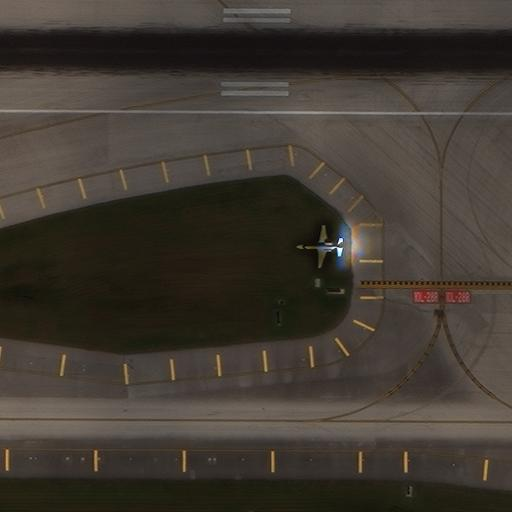Medium Civil Transport: (295, 225, 344, 268)
